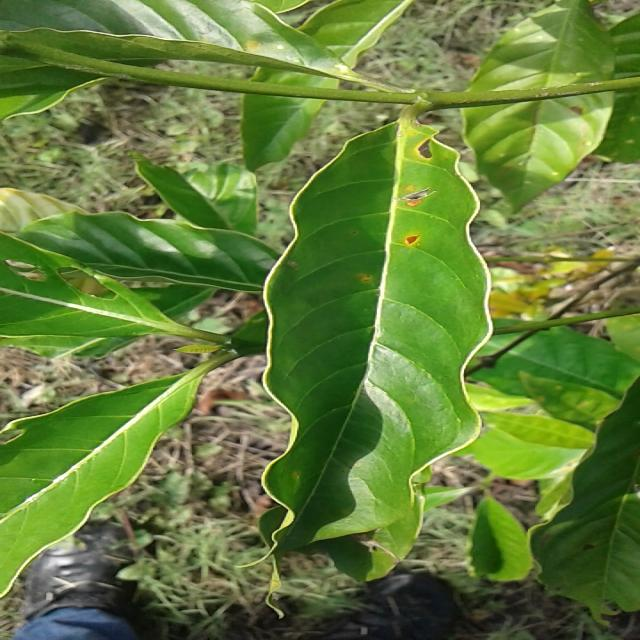Enfermedad-Roya: (261, 112, 494, 582)
